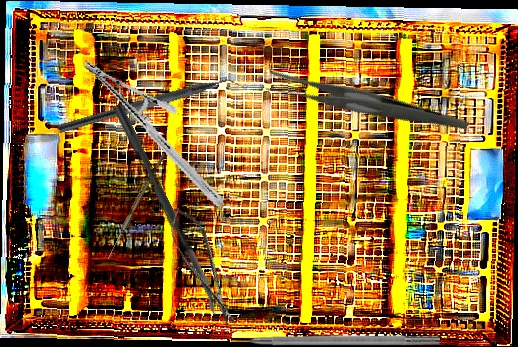Chopper: (55, 67, 250, 148)
Dressing Forceps: (262, 21, 470, 189)
Hook Surgical: (222, 333, 440, 346)
Micro Scissor: (162, 201, 244, 335)
Needle Holder: (56, 59, 251, 208)
Surgical Spoon: (111, 102, 223, 317), (105, 151, 166, 261)
